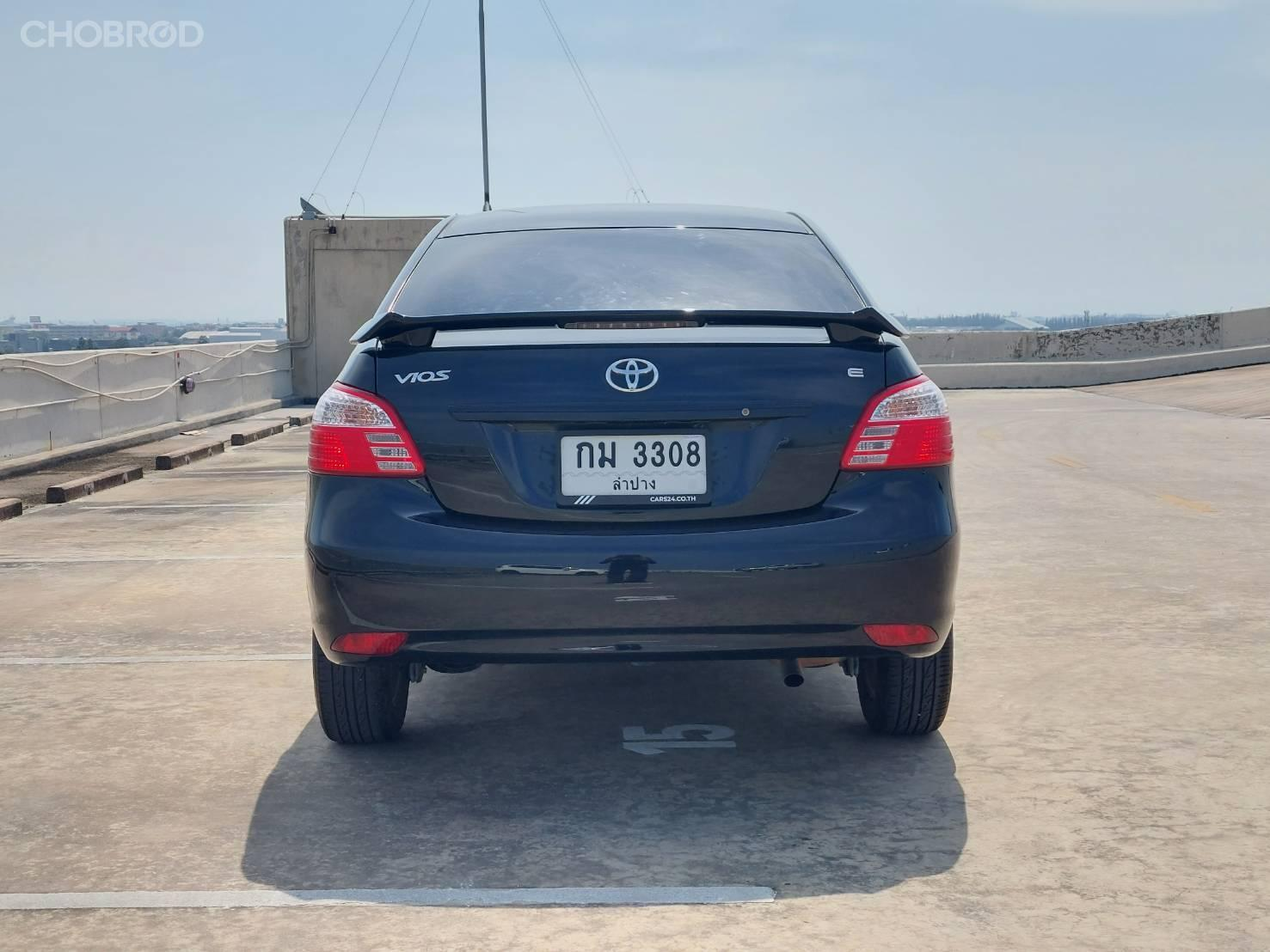license-plate: (557, 429, 713, 507)
